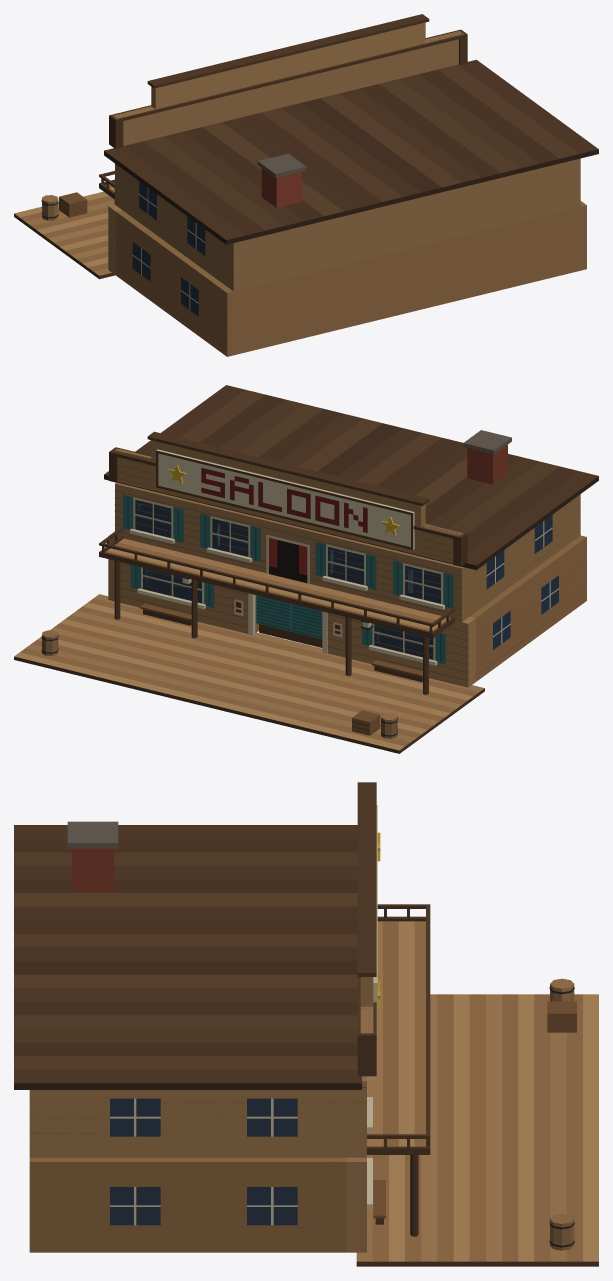
The model's file is Decor_WesternSaloon_Saloon.fbx.
3 renders of one model, top to bottom at view 1: azimuth 30°, elevation 25°; view 2: azimuth 150°, elevation 25°; view 3: azimuth 270°, elevation 25°, orthographic. The views are drawn at different scales.
Parts seen in each view (by area): view 1: Saloon_Body; view 2: Saloon_Body; view 3: Saloon_Body.
Part boxes in pixels (<box>): Saloon_Body: <box>14,14,598,356</box>; Saloon_Body: <box>14,385,598,753</box>; Saloon_Body: <box>14,782,598,1266</box>.
Size of the model in its own units: 60 by 26.7 by 55.5.
